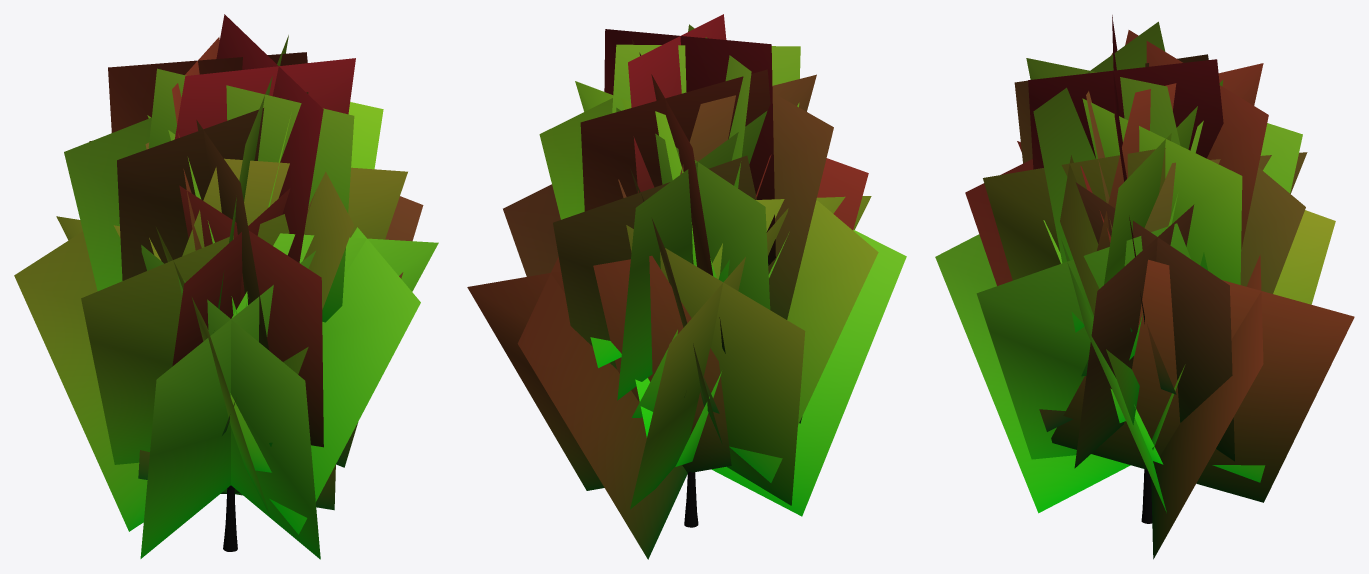
The model's file is Bush_6_3.fbx.
The picture shows the model from 3 angles, left to right: view 1: azimuth 30°, elevation 25°; view 2: azimuth 150°, elevation 25°; view 3: azimuth 270°, elevation 25°; orthographic projection. The views are drawn at different scales.
Parts seen in each view (by area): view 1: _13; view 2: _13; view 3: _13.
Part boxes in pixels (left/top/right/bottom): _13: left=14, top=14, right=438, bottom=559; _13: left=467, top=14, right=906, bottom=559; _13: left=935, top=15, right=1354, bottom=559.
Bounding box in the file's own units: 338 × 468 × 373.
